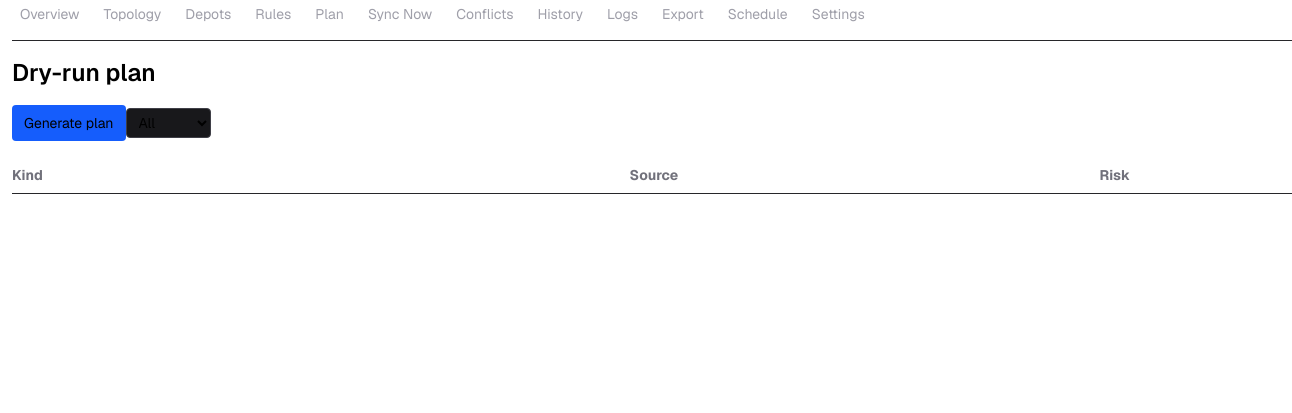
it: PlanViewClient [IMPL-MESH_GUI] › user_can_discard_plan
Click the button with test id "generate-plan-btn".
click(69, 123)  # box [12,105,126,141]
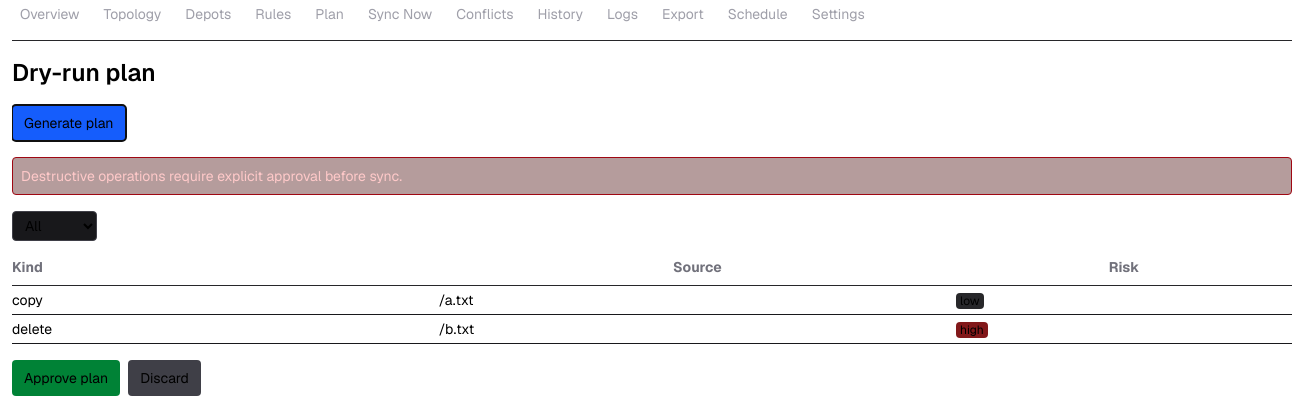
Now the button with test id "discard-plan-btn" is shown
Click the button with test id "discard-plan-btn".
click(165, 378)  # box [128,360,201,396]
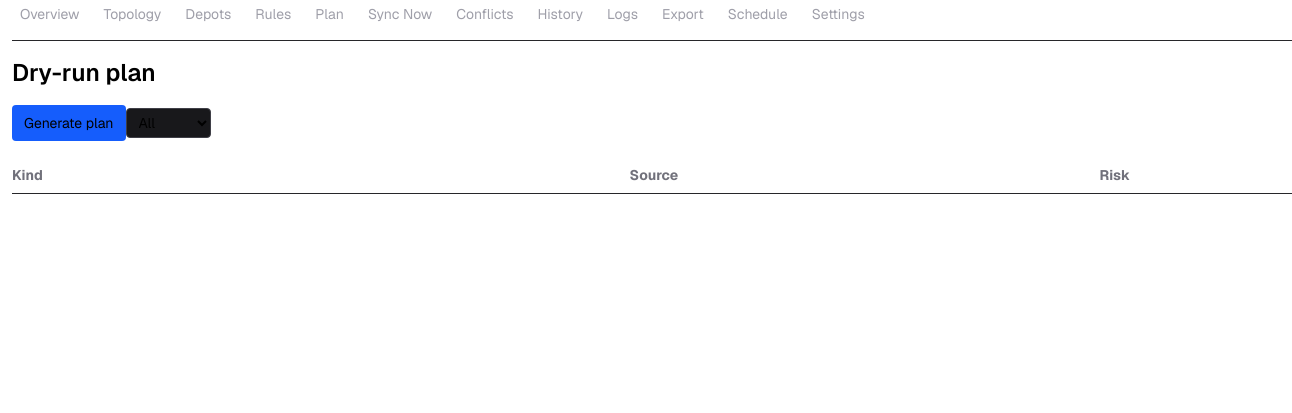
Now the button with test id "approve-plan-btn" is gone
